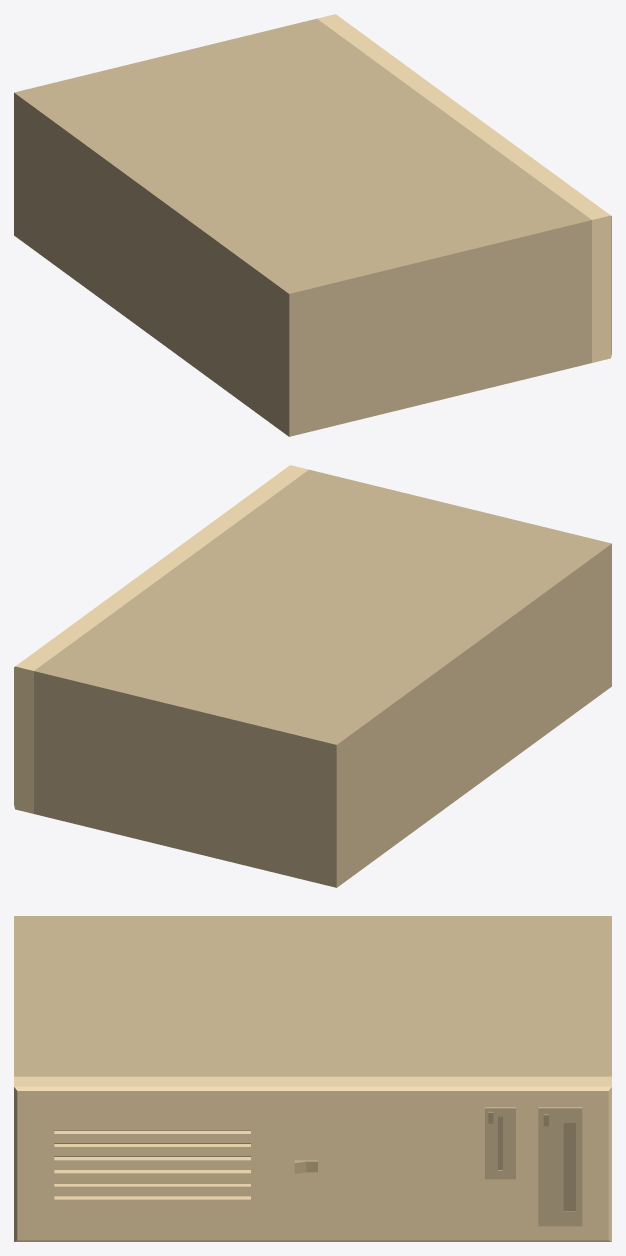
File: Computer.fbx
3 views of the same model, one above another, from view 1: azimuth 30°, elevation 25°; view 2: azimuth 150°, elevation 25°; view 3: azimuth 270°, elevation 25° (orthographic). The views are drawn at different scales.
Parts seen in each view (by area): view 1: Computer; view 2: Computer; view 3: Computer.
Boxes of the visible parts, x1,y1,x2,y2 form: Computer: [14, 14, 611, 436]; Computer: [14, 465, 611, 887]; Computer: [14, 916, 611, 1241].
Bounding box in the file's own units: 77.34 × 32.02 × 112.
